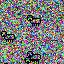sheep: (1, 31, 15, 43), (26, 15, 41, 26), (27, 51, 42, 62)
